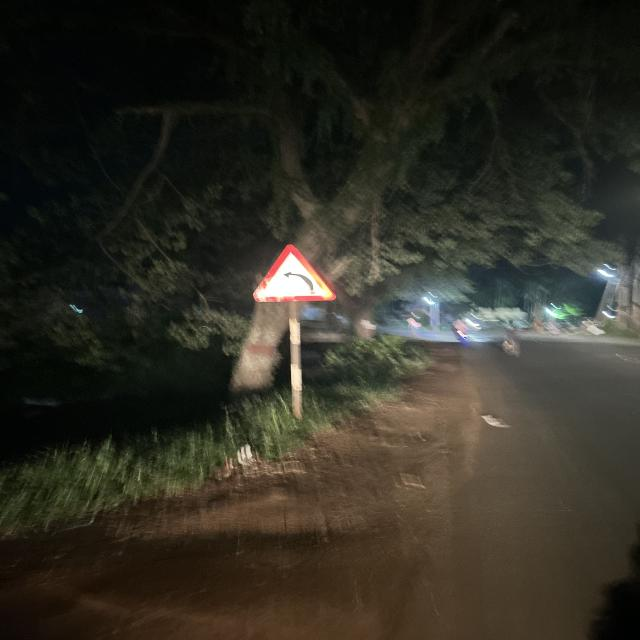left_hand_curve: (252, 245, 334, 303)
